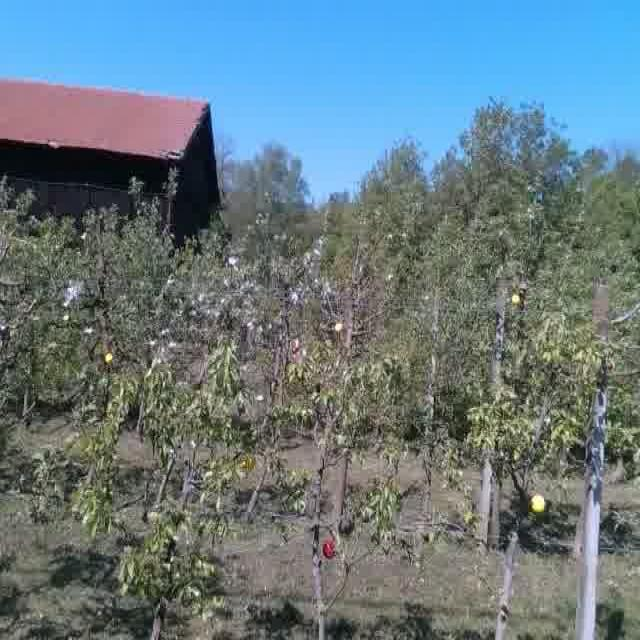red: (319, 536, 338, 562)
yellow: (530, 490, 547, 514), (509, 290, 522, 308), (332, 318, 345, 333), (103, 348, 113, 366)
